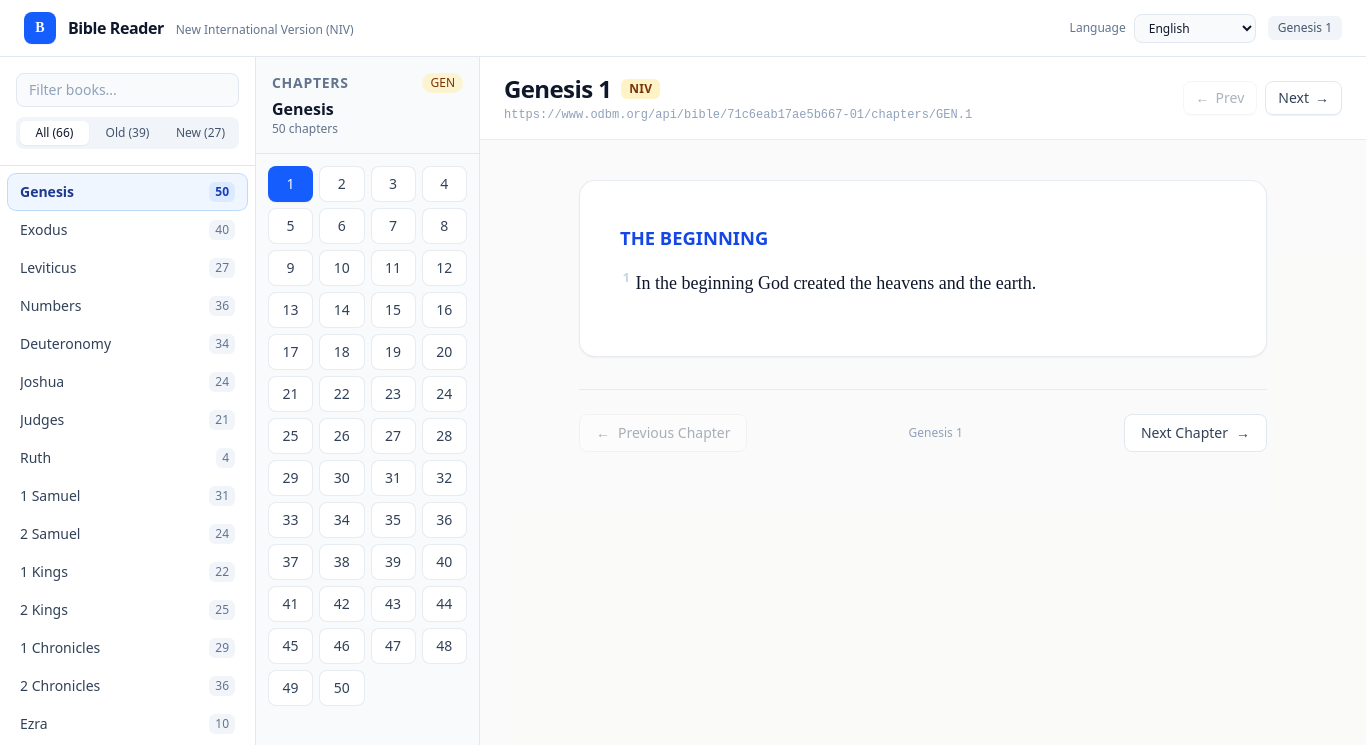
it: Bible App › updates chapter list when selecting a book and fetches the selected chapter content
Note: Click 1 Samuel in the left book panel
Click the button with test id "book-item-1SA": (128, 496) [8,478,247,514]
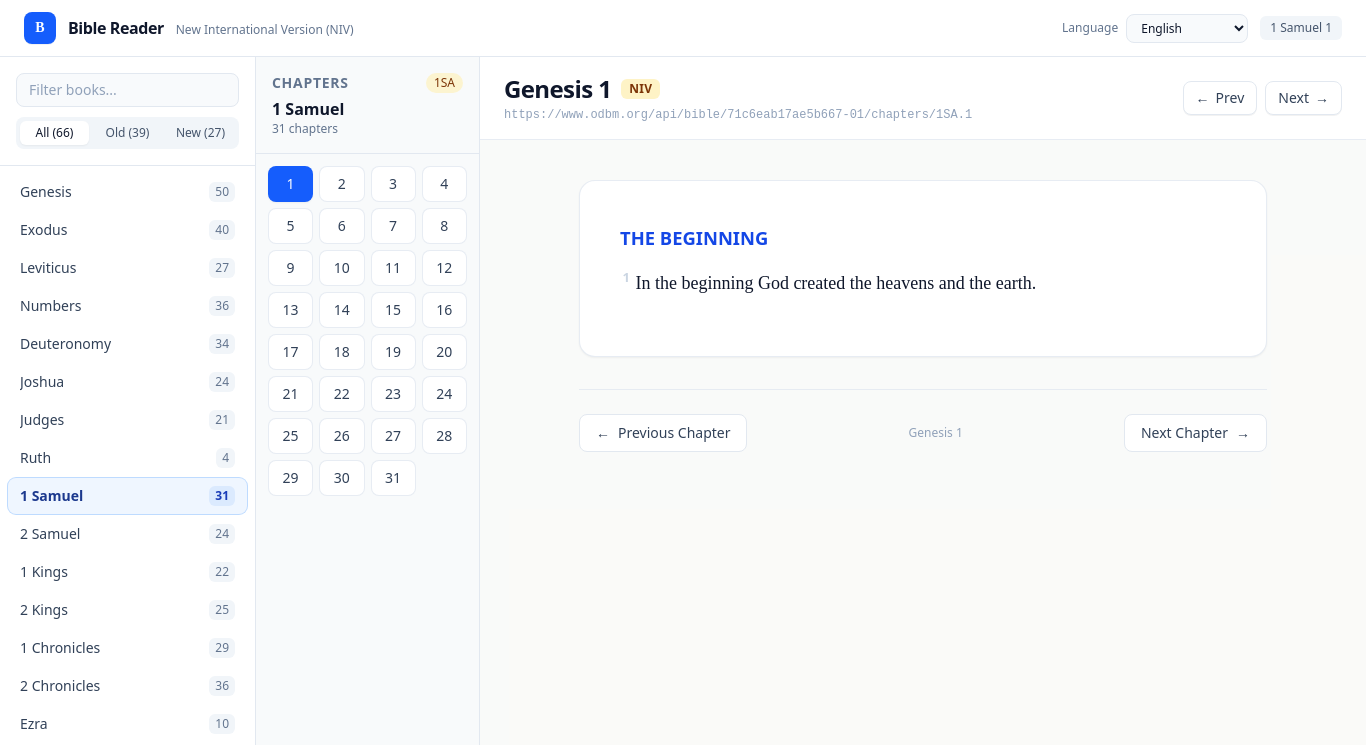
Now the text "1SA" is shown, box [426,73,463,93]
Note: Click chapter 3 in the second panel
Click the button with test id "chapter-item-3": (393, 184) [370,166,416,202]
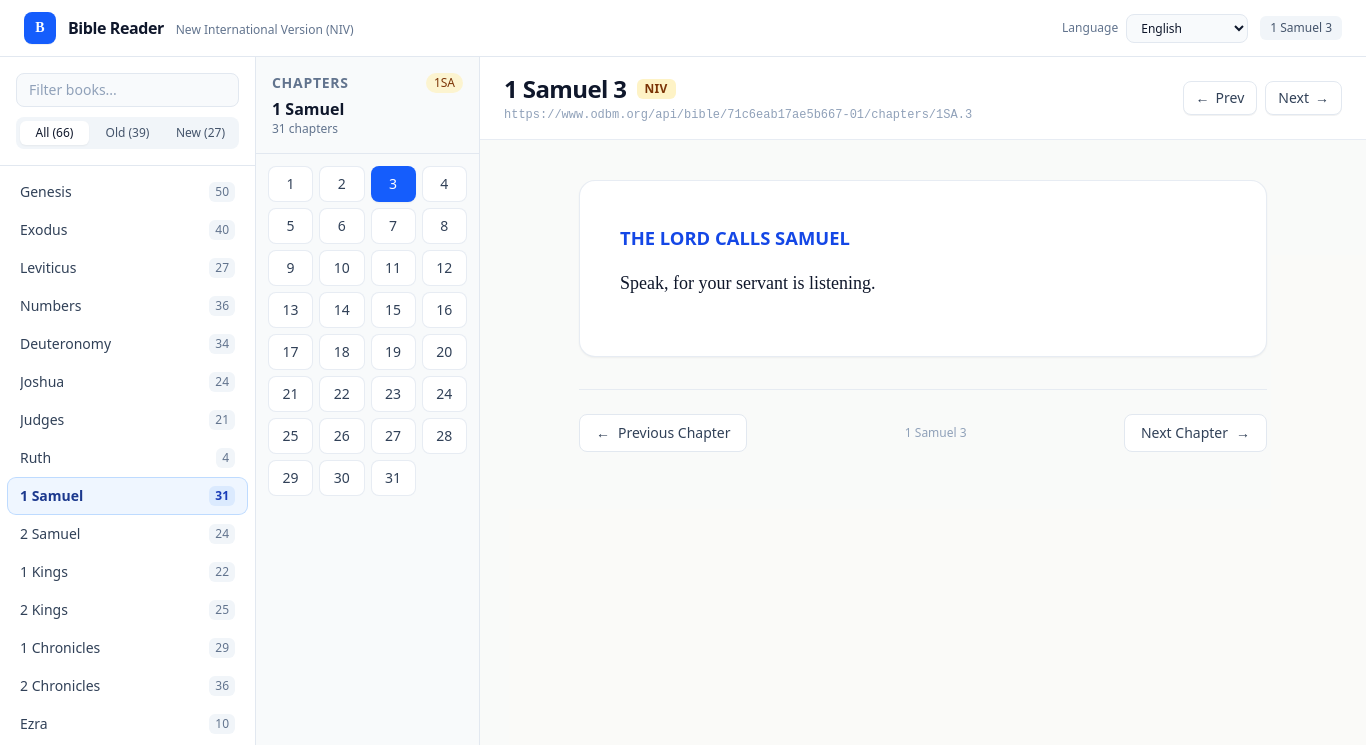
Now the element with test id "bible-content" shows "Speak, for your servant is listening.", box [620,273,876,293]
